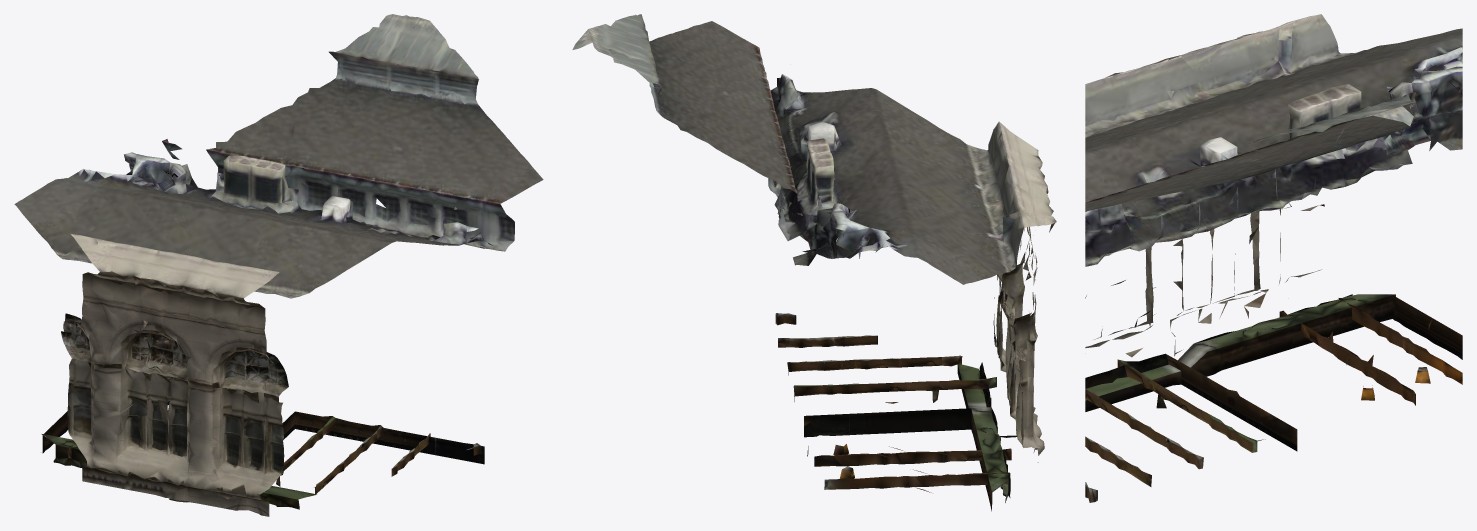
3 views of the same model, side by side, from view 1: azimuth 30°, elevation 25°; view 2: azimuth 150°, elevation 25°; view 3: azimuth 270°, elevation 25° (orthographic). The views are drawn at different scales.
Size of the model in its own units: 18.16 by 15.81 by 12.34.
1 material, 1 textured.
